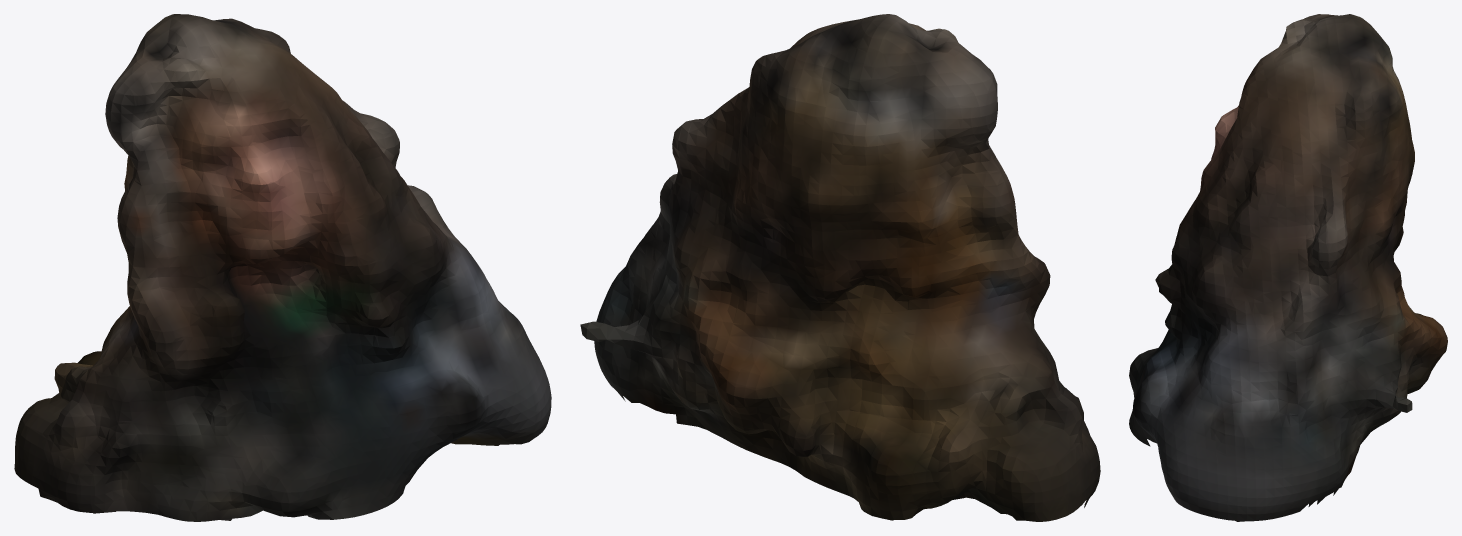
File: cabeza.fbx
3 views of the same model, side by side, from view 1: azimuth 30°, elevation 25°; view 2: azimuth 150°, elevation 25°; view 3: azimuth 270°, elevation 25° (orthographic). The views are drawn at different scales.
Visible parts, largest first — view 1: cabeza_poligono; view 2: cabeza_poligono; view 3: cabeza_poligono.
Boxes of the visible parts, <box> form: cabeza_poligono: <box>14,14,551,521</box>; cabeza_poligono: <box>580,14,1100,521</box>; cabeza_poligono: <box>1129,14,1447,521</box>.
Bounding box in the file's own units: 302 × 260 × 196.
